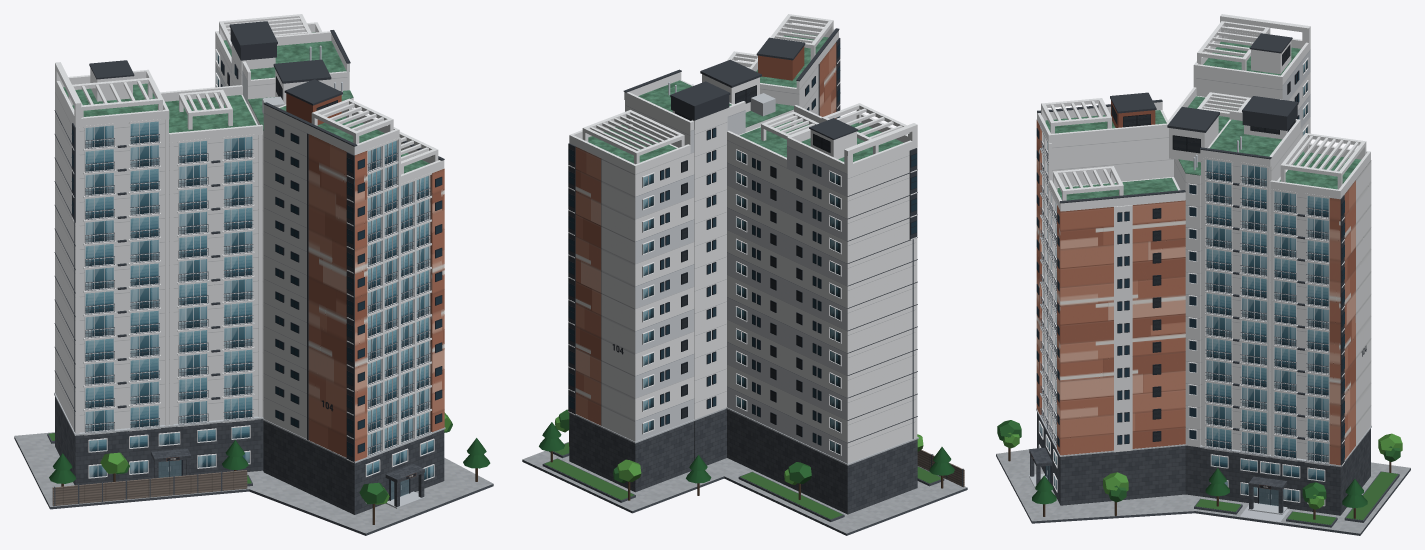
The model's file is place_금호센트럴자이104.glb.
3 renders of one model, left to right at view 1: azimuth 30°, elevation 25°; view 2: azimuth 150°, elevation 25°; view 3: azimuth 270°, elevation 25°, orthographic. The views are drawn at different scales.
Parts seen in each view (by area): view 1: Merged_WW_PrecastCore, Merged_Glass_FrontB (×2), Merged_Glass_FrontA (×2), Merged_Win_WhitePVC (×2), Merged_SE_SW_WhiteInner, Merged_SE_SW_Terracotta104, Merged_Balc_DarkRail (×2), Preview_FlatSitePad, Merged_SE_GraniteBase, Merged_Slab_WhiteEdge (×2), Merged_WW_GraniteBase, Merged_Pergola_White (×3) (+34 smaller); view 2: Merged_WW_NorthBands, Merged_WW_PrecastCore, Merged_NW_NorthSplit104, Merged_NW_WestBands, Merged_NW_TallCoreBody, Merged_WW_GraniteBase, Merged_Pergola_White (×3), Preview_FlatSitePad, Merged_Roof_Parapet (×3), Merged_NW_GraniteBase, Merged_Glass_Rear (×2), Merged_Roof_GreenDeck (×3) (+29 smaller); view 3: Merged_SE_NE_Terracotta, Merged_Win_WhitePVC (×3), Merged_Glass_FrontA, Merged_Glass_FrontB, Merged_Balc_DarkRail (×2), Merged_Pergola_White (×3), Merged_Roof_Parapet (×3), Merged_NW_NorthSplit104, Preview_FlatSitePad, Merged_SE_GraniteBase, Merged_NW_PrecastCore, Merged_Roof_GreenDeck (×3) (+38 smaller).
Part boxes in pixels (left/top/right/bottom): Merged_WW_PrecastCore: left=55, top=87, right=258, bottom=432; Merged_Glass_FrontB (×2): left=85, top=125, right=433, bottom=479; Merged_Glass_FrontA (×2): left=85, top=121, right=433, bottom=475; Merged_Win_WhitePVC (×2): left=84, top=121, right=434, bottom=503; Merged_SE_SW_WhiteInner: left=263, top=113, right=306, bottom=438; Merged_SE_SW_Terracotta104: left=308, top=134, right=346, bottom=457; Merged_Balc_DarkRail (×2): left=85, top=134, right=430, bottom=456; Preview_FlatSitePad: left=14, top=432, right=493, bottom=535; Merged_SE_GraniteBase: left=264, top=421, right=444, bottom=514; Merged_Slab_WhiteEdge (×2): left=83, top=119, right=431, bottom=458; Merged_WW_GraniteBase: left=55, top=397, right=262, bottom=485; Merged_Pergola_White (×3): left=68, top=14, right=438, bottom=174; Merged_WW_NorthBands: left=727, top=140, right=847, bottom=463; Merged_WW_PrecastCore: left=734, top=126, right=915, bottom=463; Merged_NW_NorthSplit104: left=575, top=147, right=634, bottom=441; Merged_NW_WestBands: left=635, top=110, right=745, bottom=441; Merged_NW_TallCoreBody: left=672, top=108, right=727, bottom=419; Merged_WW_GraniteBase: left=727, top=409, right=917, bottom=514; Merged_Pergola_White (×3): left=582, top=14, right=909, bottom=164; Preview_FlatSitePad: left=522, top=442, right=967, bottom=535; Merged_Roof_Parapet (×3): left=569, top=23, right=917, bottom=174; Merged_NW_GraniteBase: left=569, top=413, right=693, bottom=492; Merged_Glass_Rear (×2): left=643, top=151, right=840, bottom=454; Merged_Roof_GreenDeck (×3): left=588, top=32, right=903, bottom=163; Merged_SE_NE_Terracotta: left=1060, top=200, right=1185, bottom=455; Merged_Win_WhitePVC (×3): left=1038, top=132, right=1328, bottom=506; Merged_Glass_FrontA: left=1206, top=159, right=1328, bottom=480; Merged_Glass_FrontB: left=1206, top=164, right=1328, bottom=501; Merged_Balc_DarkRail (×2): left=1040, top=140, right=1328, bottom=463; Merged_Pergola_White (×3): left=1041, top=21, right=1366, bottom=200; Merged_Roof_Parapet (×3): left=1037, top=30, right=1370, bottom=211; Merged_NW_NorthSplit104: left=1344, top=160, right=1371, bottom=459; Preview_FlatSitePad: left=996, top=448, right=1410, bottom=535; Merged_SE_GraniteBase: left=1037, top=412, right=1185, bottom=505; Merged_NW_PrecastCore: left=1201, top=119, right=1370, bottom=459; Merged_Roof_GreenDeck (×3): left=1045, top=39, right=1360, bottom=200.
Bounding box in the file's own units: 50.89 × 49.18 × 50.63.
35 materials, 17 textured.
